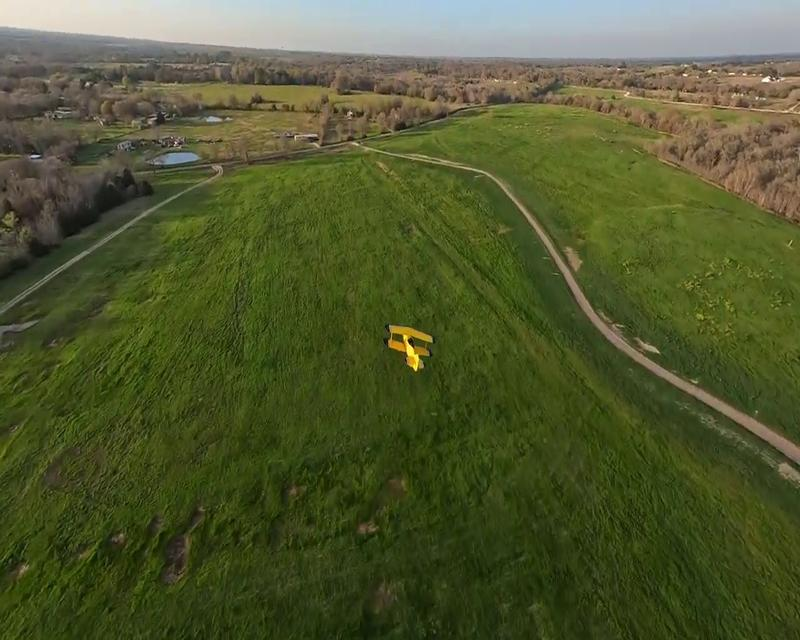UAV: (384, 323, 435, 372)
